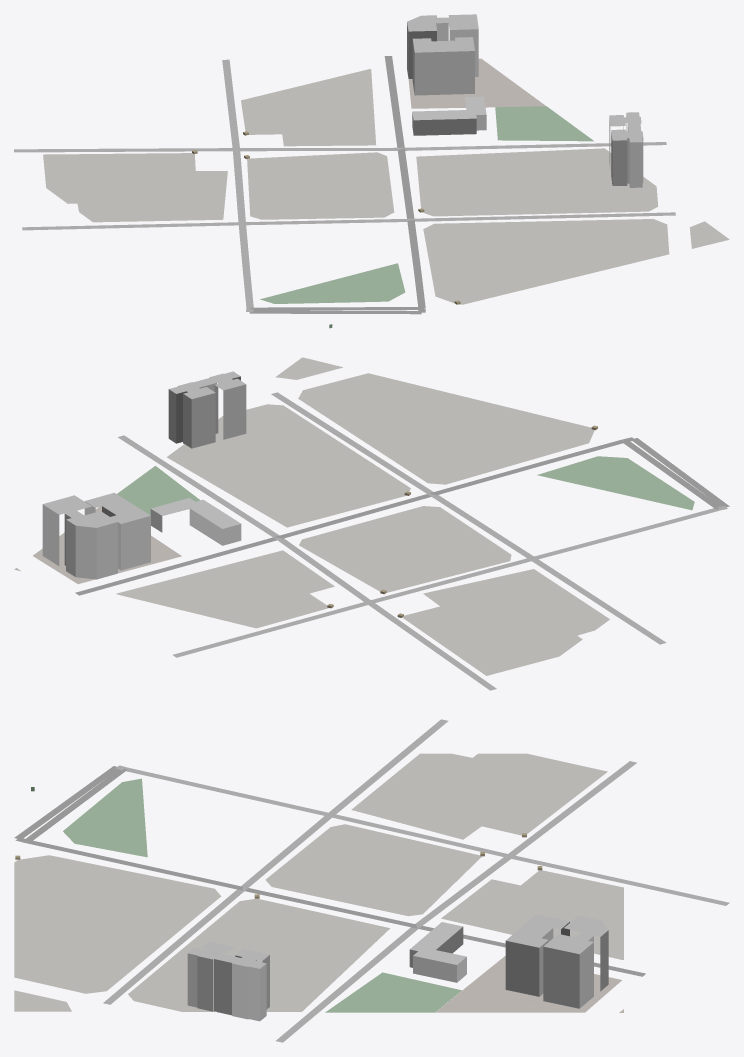
3 views of the same model, one above another, from view 1: azimuth 30°, elevation 25°; view 2: azimuth 150°, elevation 25°; view 3: azimuth 270°, elevation 25° (orthographic). The views are drawn at different scales.
Bounding box in the file's own units: 625 × 49.57 × 587.
